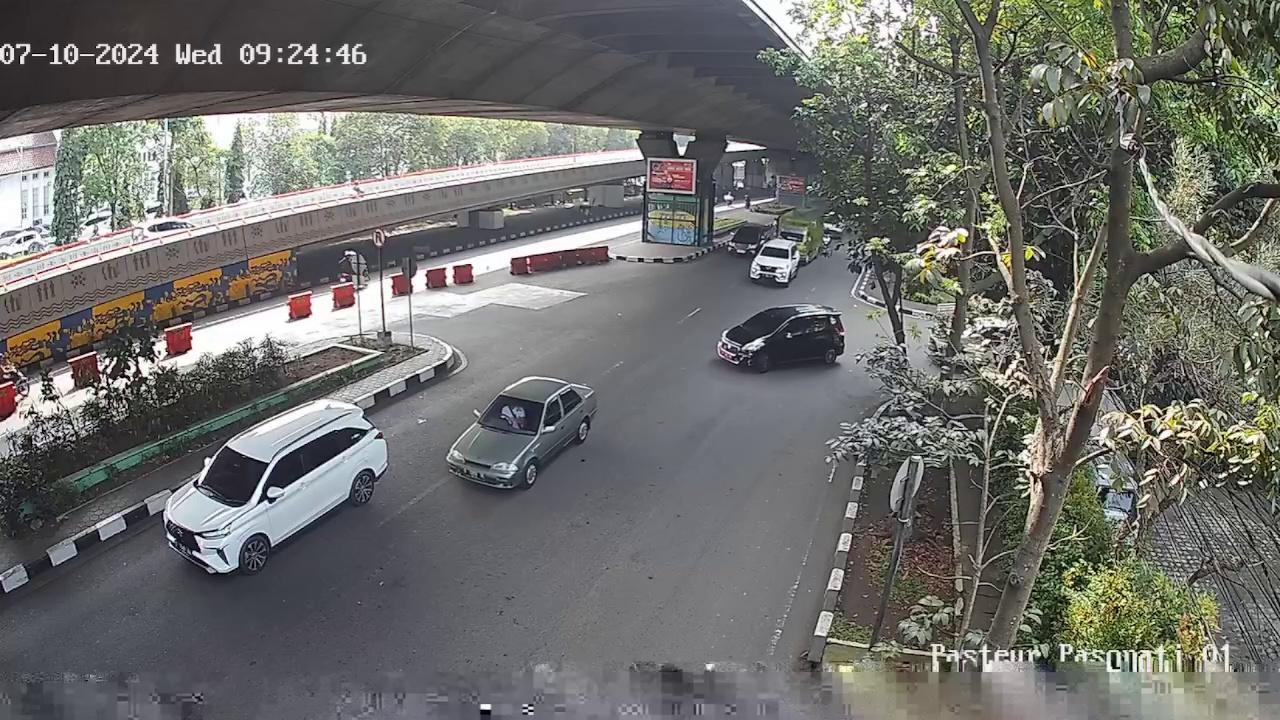pakai: (494, 398, 526, 424)
windshield: (200, 444, 268, 499), (476, 392, 549, 433), (747, 314, 778, 339), (760, 247, 790, 259)
